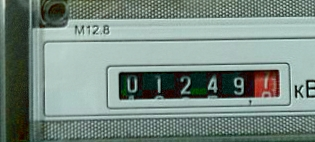0: (125, 73, 139, 93)
1: (152, 73, 164, 94)
2: (177, 73, 193, 96)
4: (206, 73, 219, 93)
7: (260, 69, 273, 89)
9: (232, 75, 245, 96)
screen: (102, 58, 294, 111)
